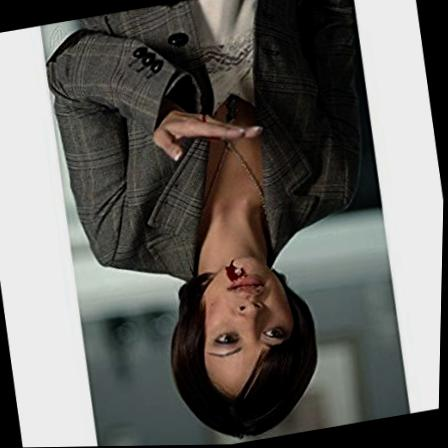Fire: (226, 259, 249, 282), (201, 113, 211, 123)
